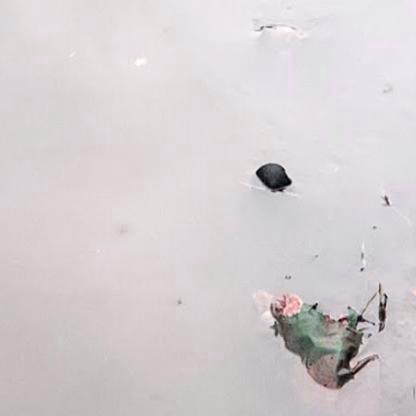Trash: (272, 284, 391, 389), (255, 161, 292, 192)
